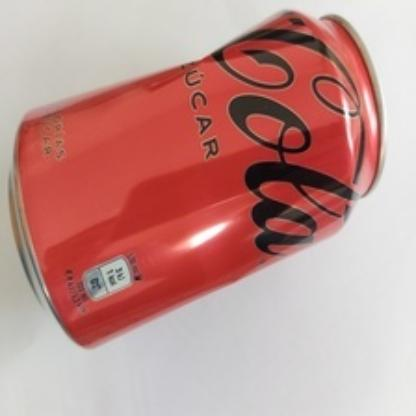Can: (9, 9, 383, 351)
